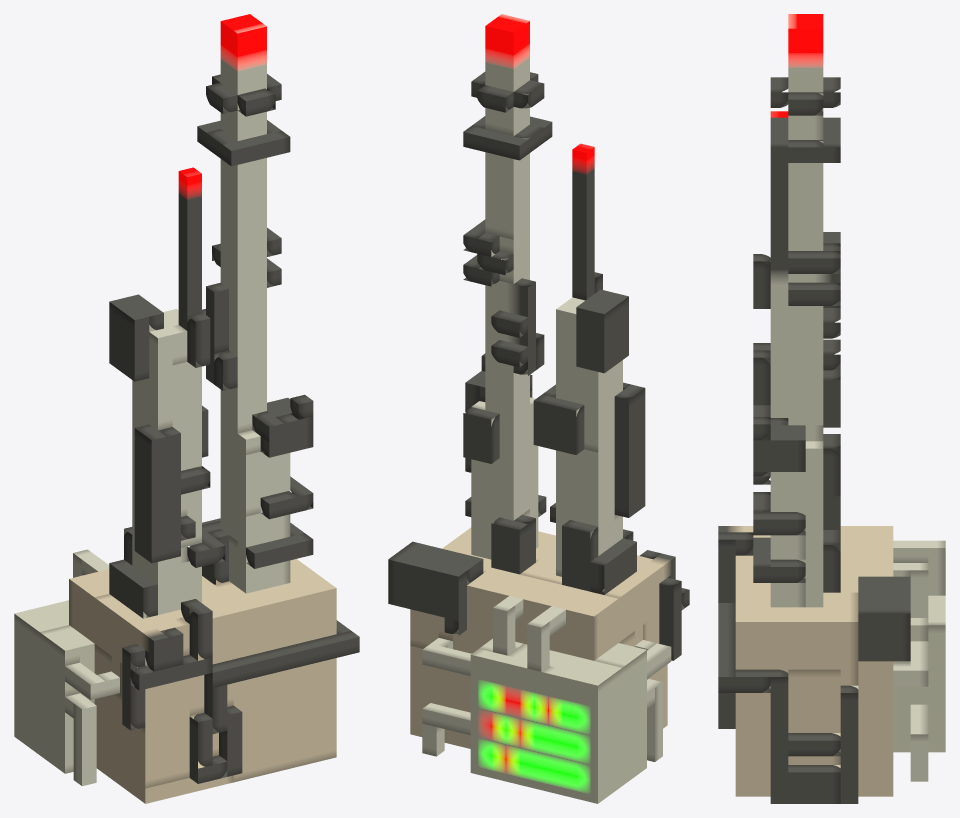
The model's file is tylko_antena.dae.
3 renders of one model, left to right at view 1: azimuth 30°, elevation 25°; view 2: azimuth 150°, elevation 25°; view 3: azimuth 270°, elevation 25°, orthographic. The views are drawn at different scales.
Visible parts, largest first — view 1: Content; view 2: Content; view 3: Content.
Boxes of the visible parts, left/top/right/bottom form: Content: left=14, top=14, right=359, bottom=803; Content: left=388, top=14, right=689, bottom=803; Content: left=718, top=14, right=945, bottom=803.
Size of the model in its own units: 16 by 47 by 13.
Materials: 1 (1 with a texture image).
